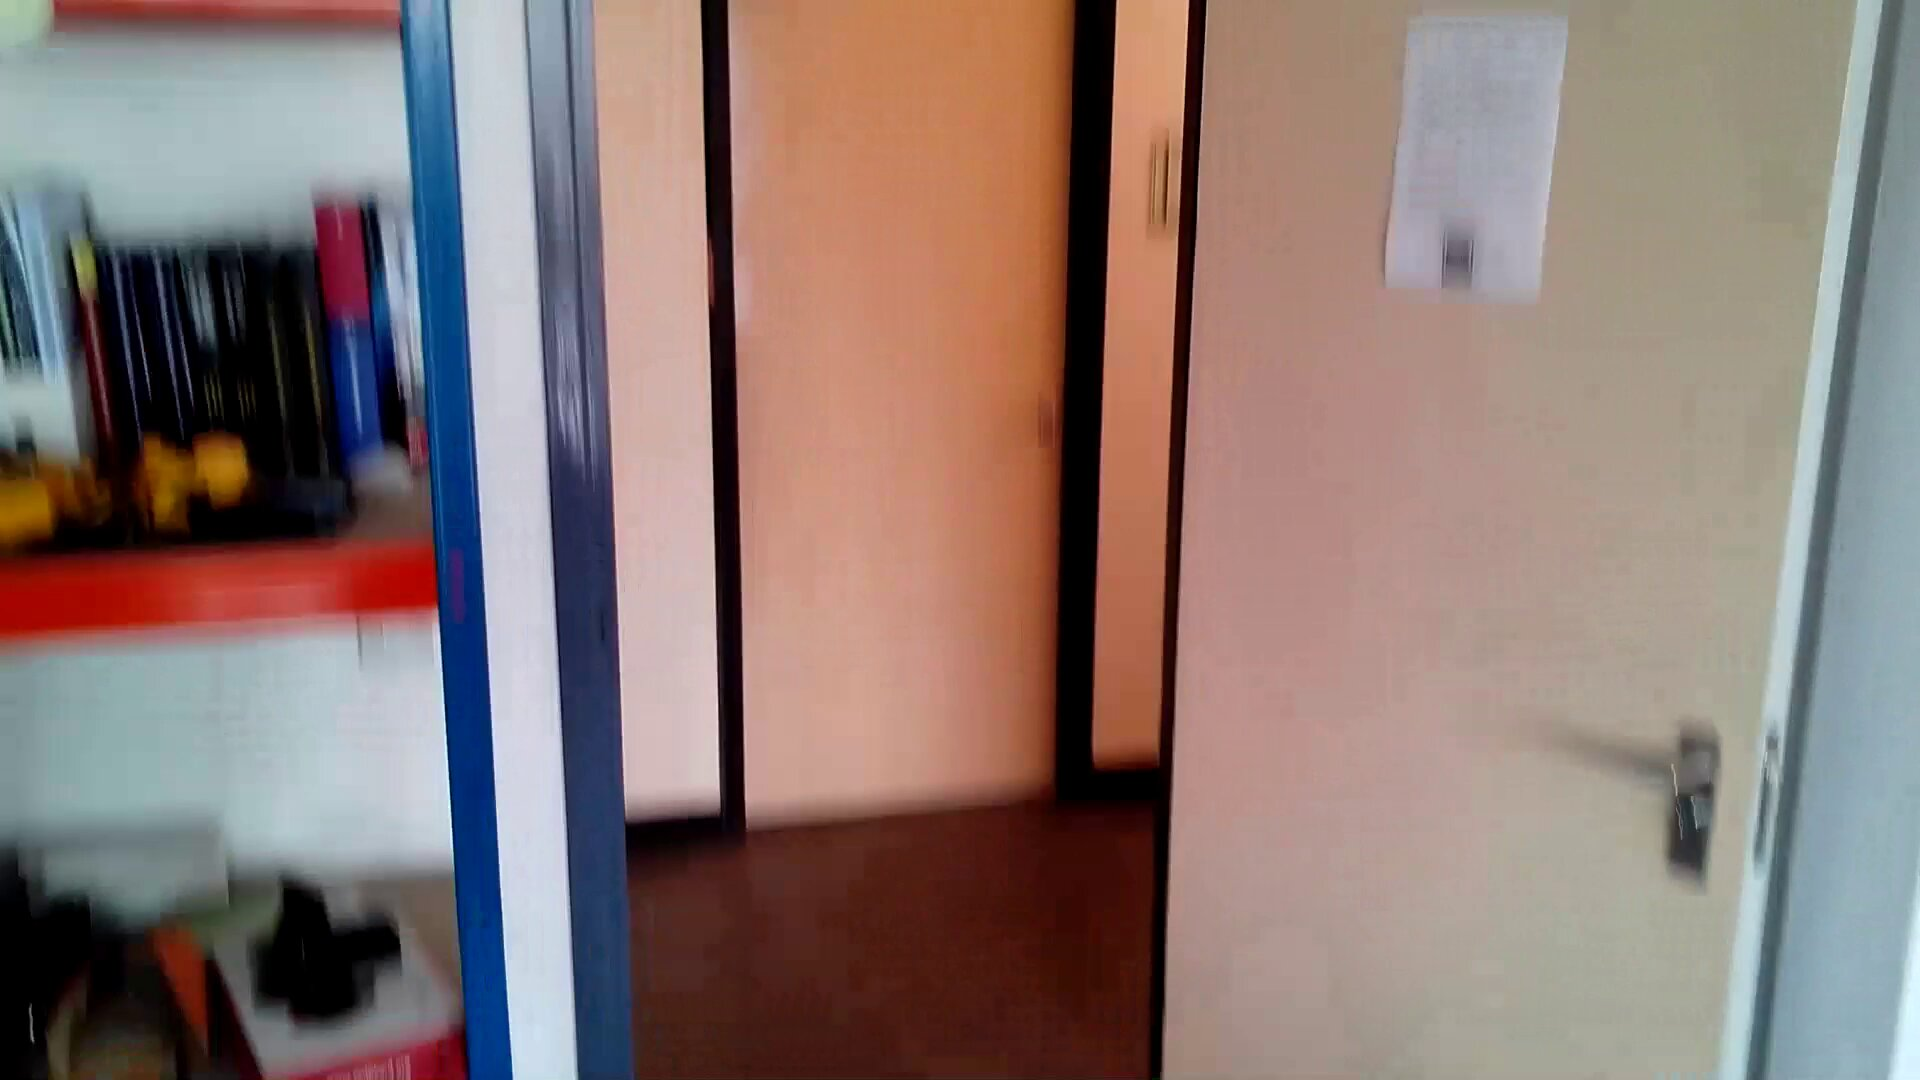Door: (1188, 5, 1829, 1080), (712, 11, 1095, 825)
